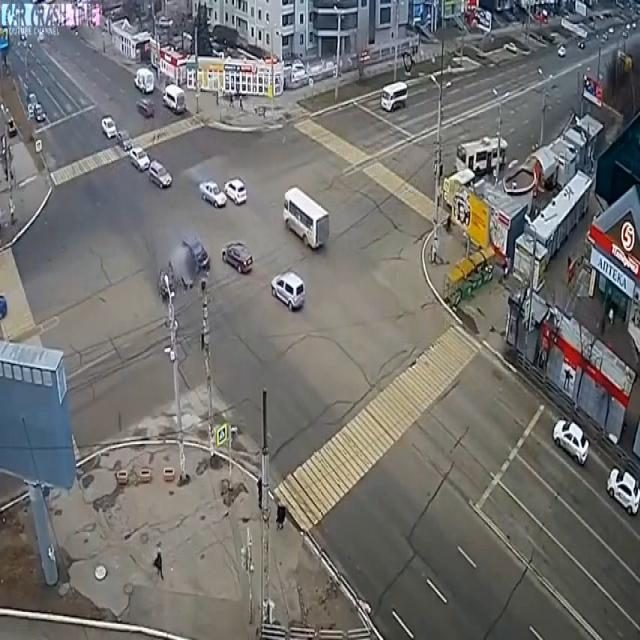Accident: (154, 210, 218, 317)
